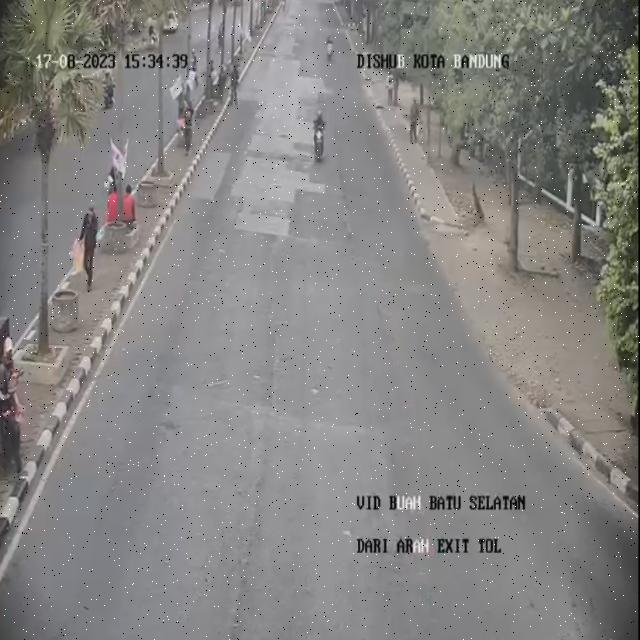motorcycle: (310, 102, 329, 169), (321, 28, 336, 65)
